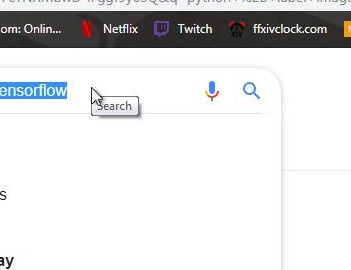cursor: (90, 85, 104, 106)
